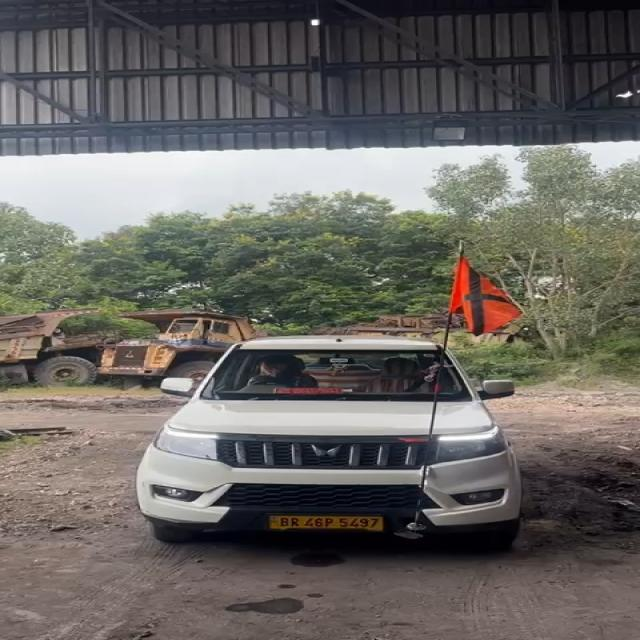light_vehicle: (131, 336, 532, 544)
